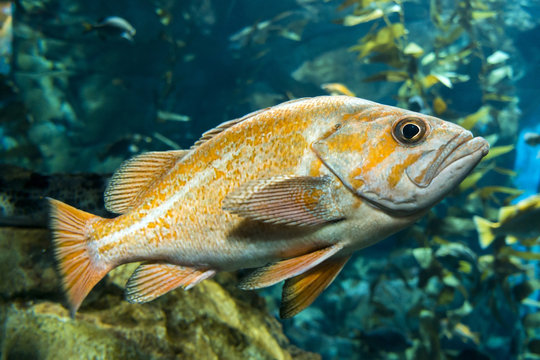Rock Fish: (49, 57, 497, 312)
